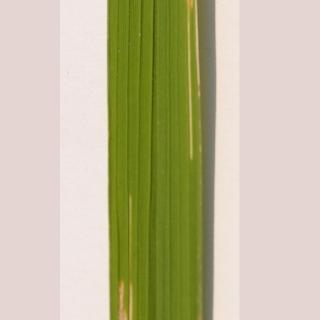Hawar-Daun: (171, 1, 212, 129)
